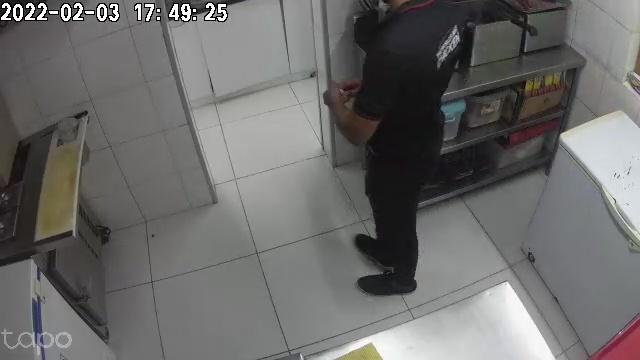no_gloves: (321, 81, 352, 114)
